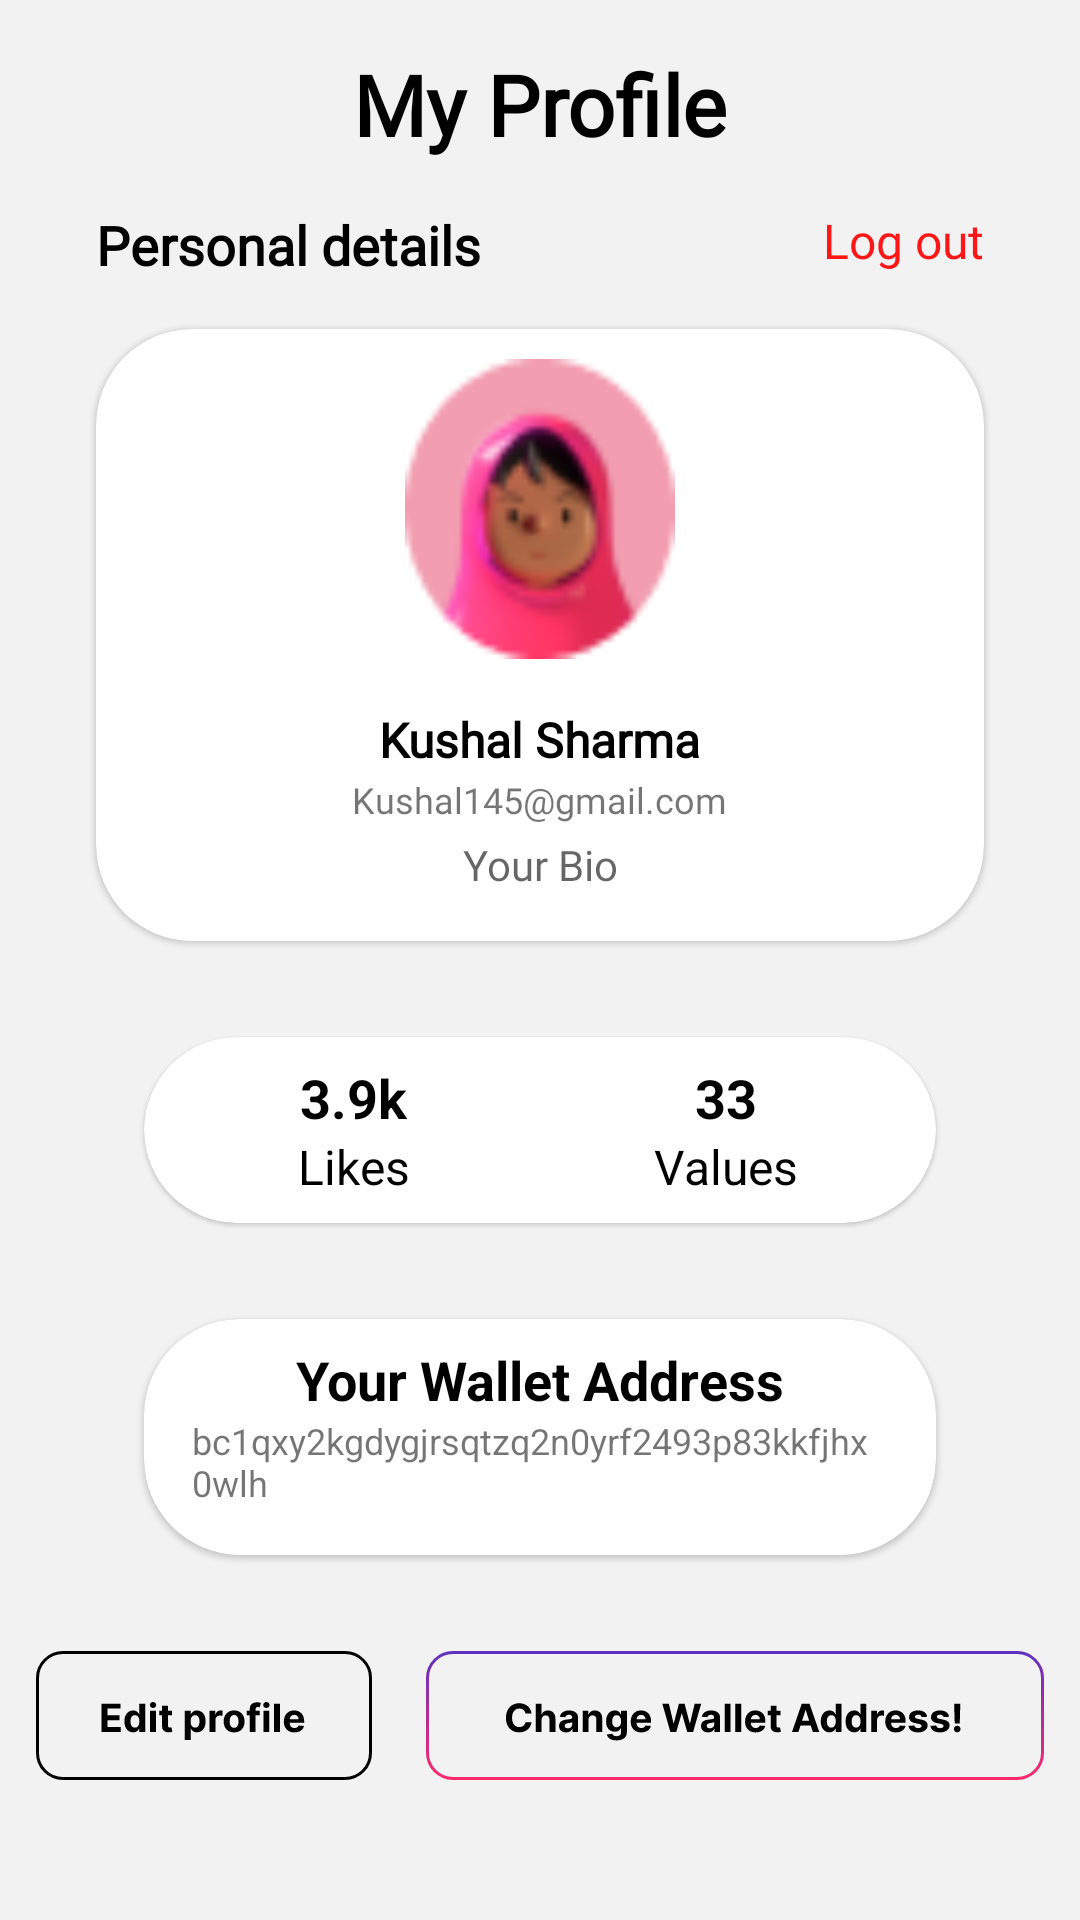

Screen size 1080px×1920px. Icon name, then its box in pixels as (x1, y1, x2, y2):
sampledp: (405, 359, 675, 659)
